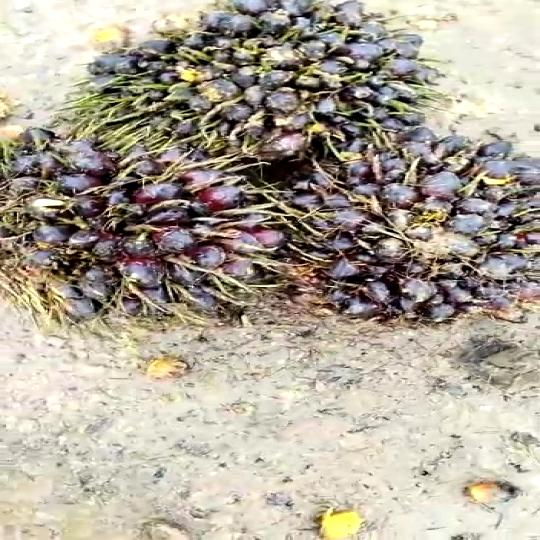mentah: (0, 101, 279, 341), (264, 121, 540, 336), (87, 0, 426, 168)
